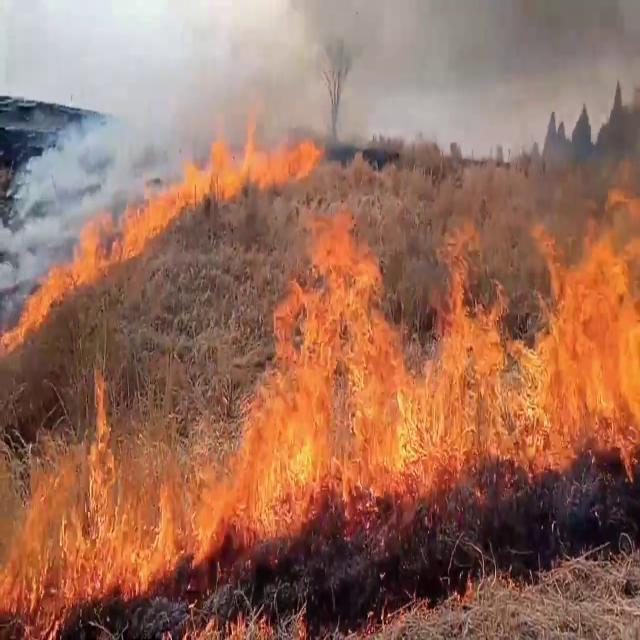Fire: (180, 198, 640, 560), (2, 345, 228, 640), (144, 115, 324, 209), (57, 170, 192, 288), (0, 257, 70, 354)
Smoke: (10, 77, 144, 264)
